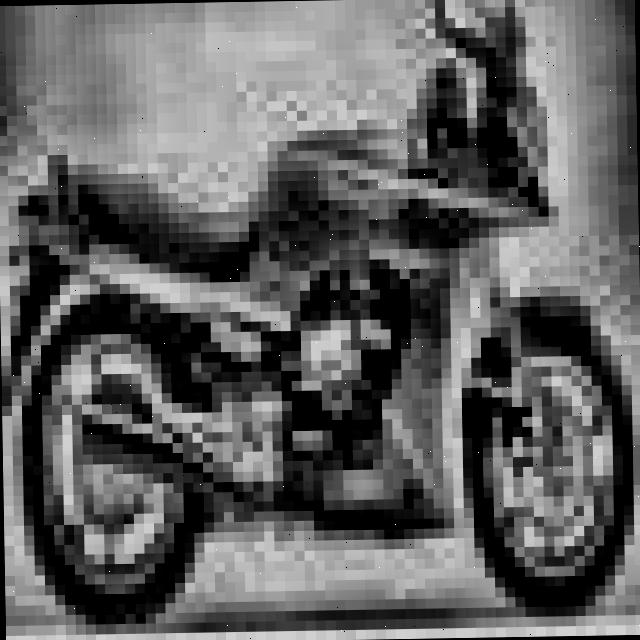mopeds: (2, 33, 640, 633)
